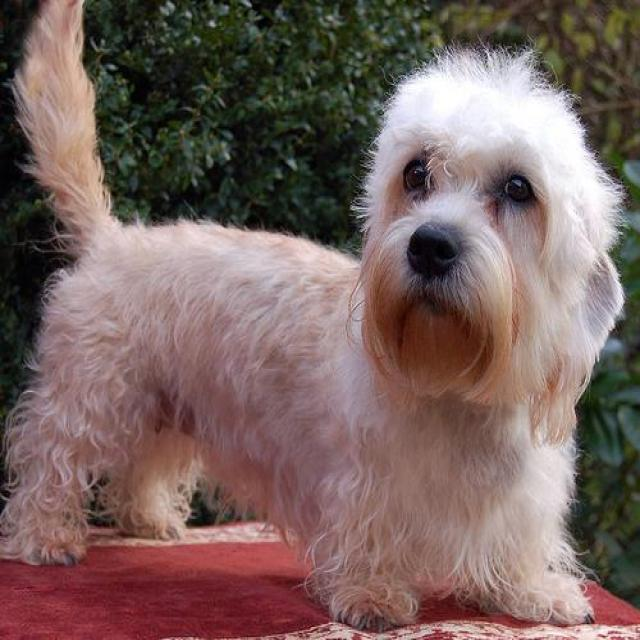dandie_dinmont: (0, 0, 621, 630)
